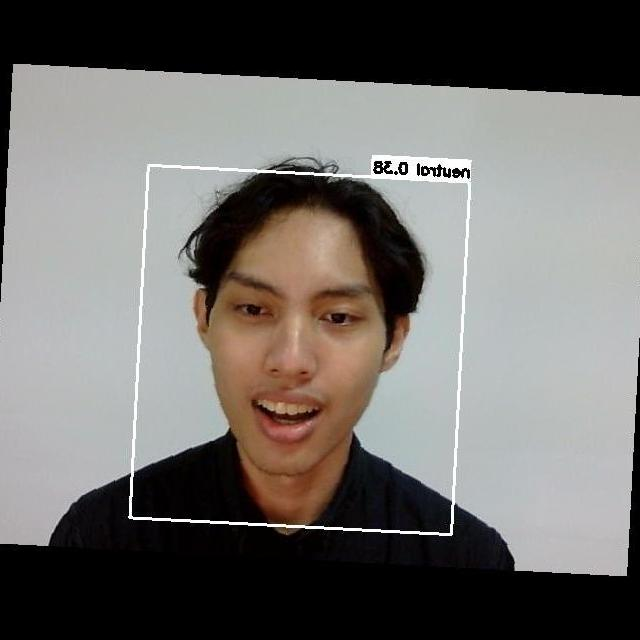Surprised: (206, 253, 400, 484)
